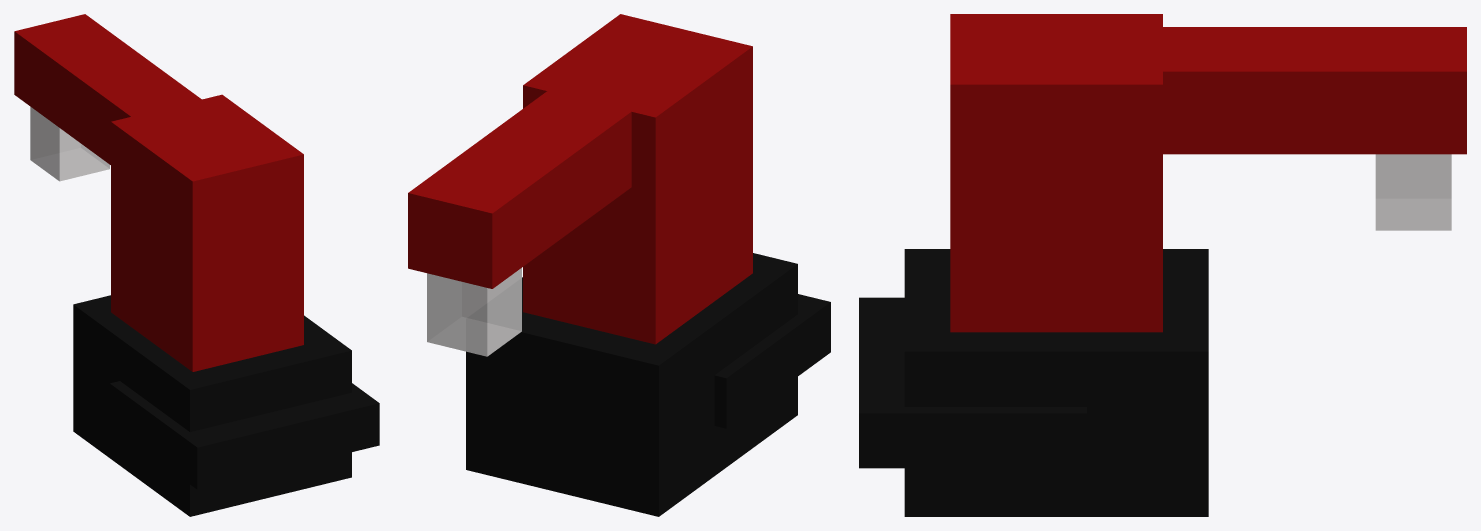
File: basic-iron-mine.gltf
3 views of the same model, side by side, from view 1: azimuth 30°, elevation 25°; view 2: azimuth 150°, elevation 25°; view 3: azimuth 270°, elevation 25° (orthographic). The views are drawn at different scales.
Visible parts, largest first — view 1: Part3, Part4, Part5, Part2, Part1, Dropper1; view 2: Part3, Part4, Part2, Part1, Part5, Dropper1; view 3: Part3, Part4, Part2, Part5, Part1, Dropper1.
Part boxes in pixels (left/top/right/bottom): Part3: left=111, top=94, right=303, bottom=371; Part4: left=73, top=295, right=351, bottom=516; Part5: left=110, top=381, right=379, bottom=489; Part2: left=55, top=44, right=201, bottom=164; Part1: left=14, top=14, right=125, bottom=124; Dropper1: left=30, top=106, right=109, bottom=181; Part3: left=523, top=14, right=752, bottom=344; Part4: left=466, top=253, right=797, bottom=516; Part2: left=457, top=91, right=631, bottom=253; Part1: left=408, top=157, right=540, bottom=288; Part5: left=714, top=294, right=830, bottom=428; Dropper1: left=427, top=268, right=521, bottom=356; Part3: left=950, top=14, right=1162, bottom=332; Part4: left=904, top=249, right=1208, bottom=516; Part2: left=1163, top=27, right=1360, bottom=154; Part5: left=859, top=297, right=1086, bottom=468; Part1: left=1360, top=27, right=1466, bottom=154; Dropper1: left=1375, top=154, right=1451, bottom=230.
Bounding box in the file's own units: 4.5 × 7.5 × 10.
